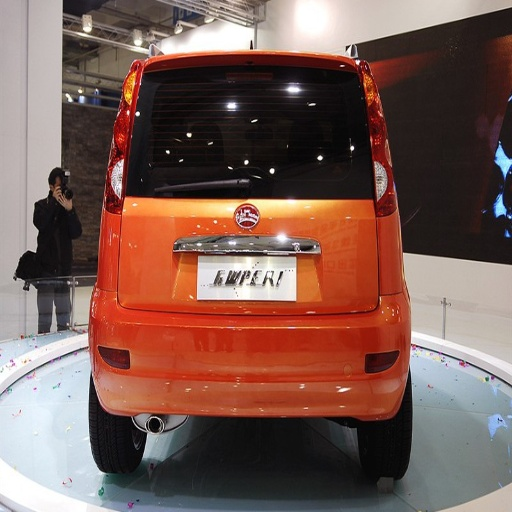back_bumper: (94, 289, 403, 431)
back_glass: (129, 65, 353, 196)
trunk: (109, 198, 377, 350)
